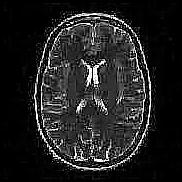Normal_Brain: (1, 1, 182, 182)
